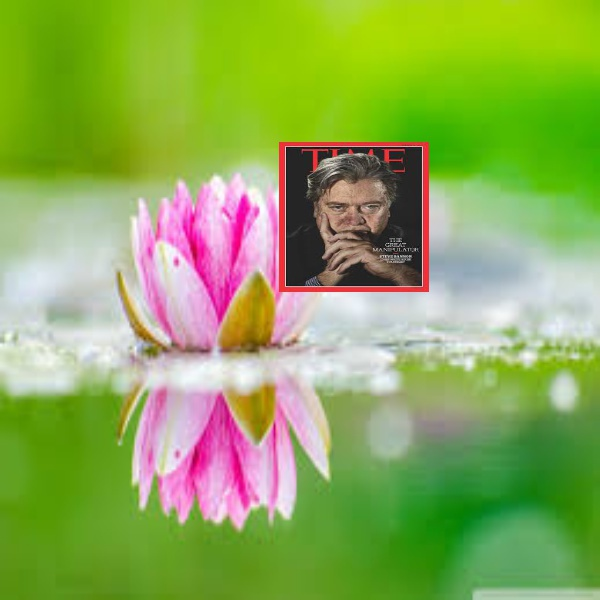time_cover: (273, 144, 437, 295)
